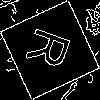R: (25, 25, 81, 75)
